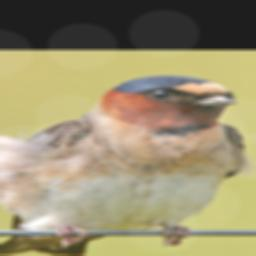Swallow: (0, 75, 255, 256)
